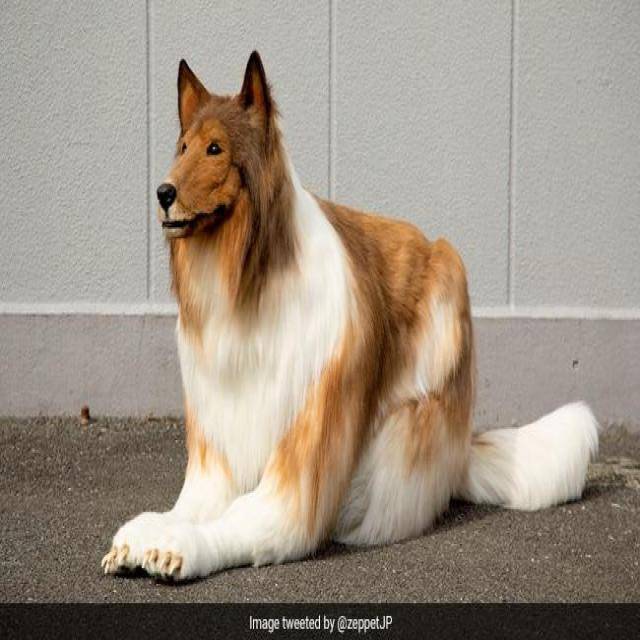Dog: (154, 46, 286, 266)
